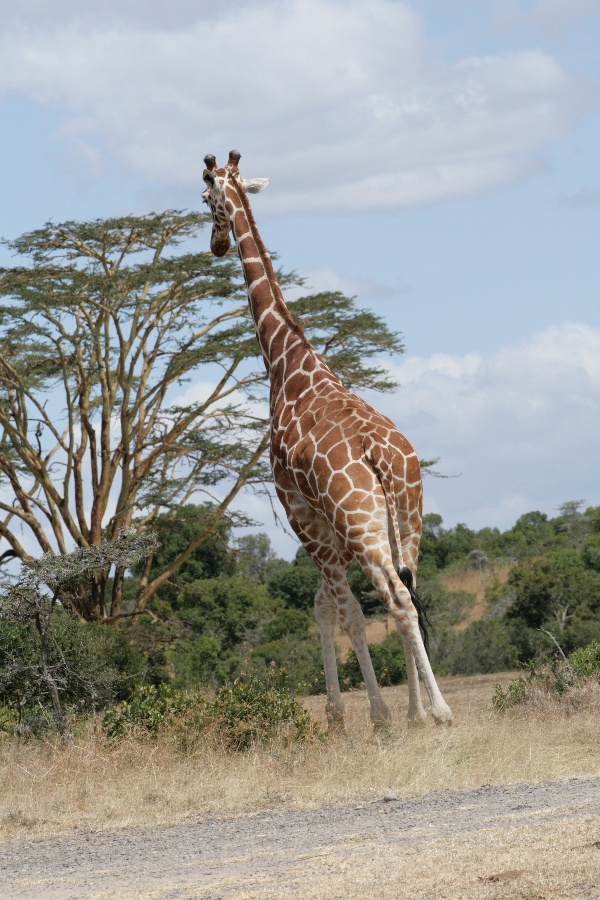giraffe: (193, 138, 466, 744)
